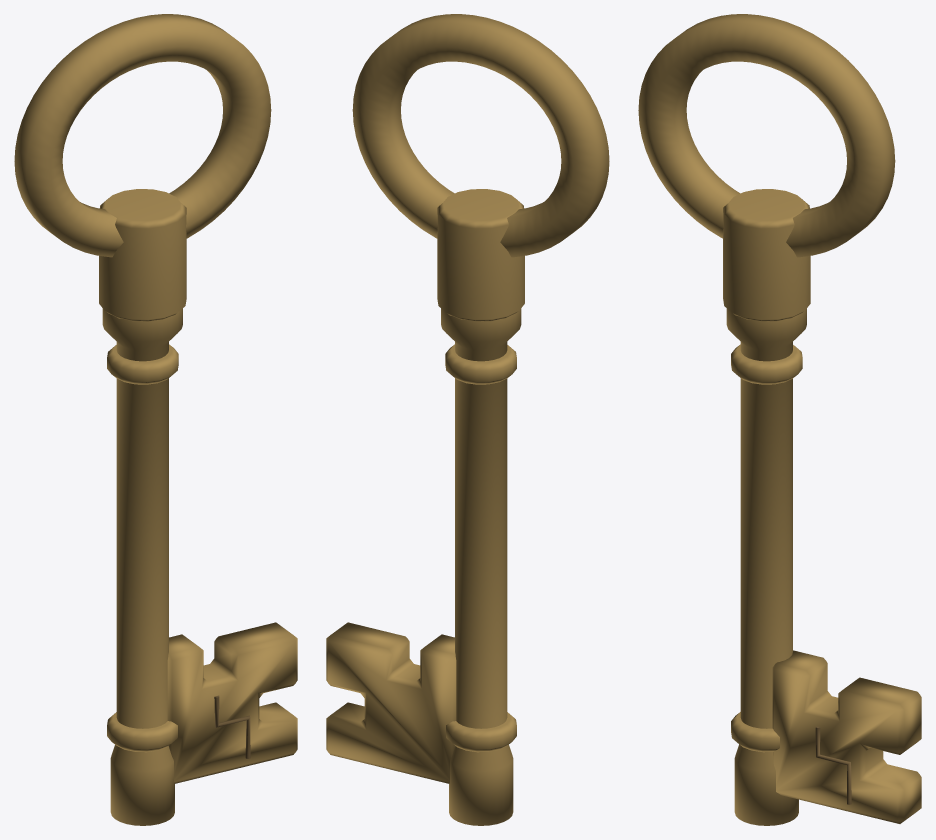
File: P014_skeleton_key_rebuilt.glb
The picture shows the model from 3 angles, left to right: view 1: azimuth 30°, elevation 25°; view 2: azimuth 150°, elevation 25°; view 3: azimuth 330°, elevation 25°; orthographic projection.
Visible parts, largest first — view 1: Key_aged_solid_brass; view 2: Key_aged_solid_brass; view 3: Key_aged_solid_brass.
Part boxes in pixels (x1,y1,x2,y2): Key_aged_solid_brass: [14, 14, 297, 825]; Key_aged_solid_brass: [326, 14, 609, 825]; Key_aged_solid_brass: [638, 14, 921, 825].
Bounding box in the file's own units: 0.0772 × 0.2172 × 0.022.
